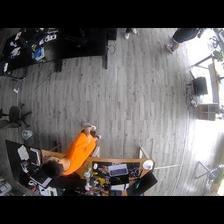normal: (43, 121, 103, 178)
